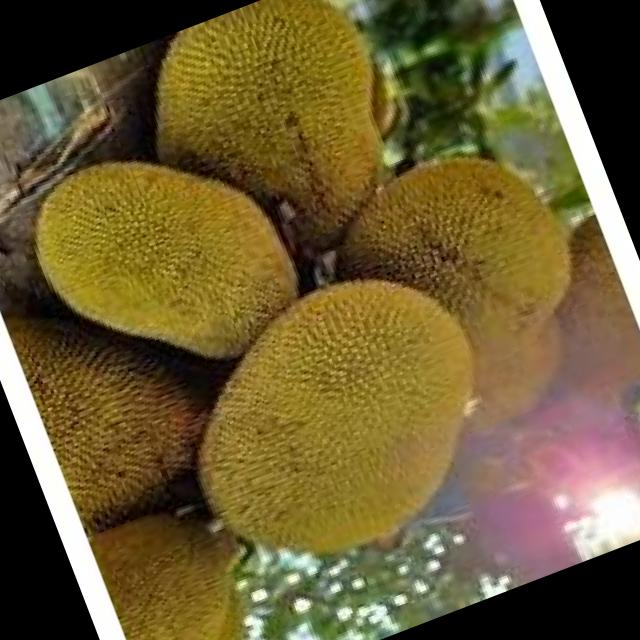Fruit: (118, 205, 566, 632), (0, 79, 345, 427), (96, 0, 450, 310), (282, 100, 618, 410)
